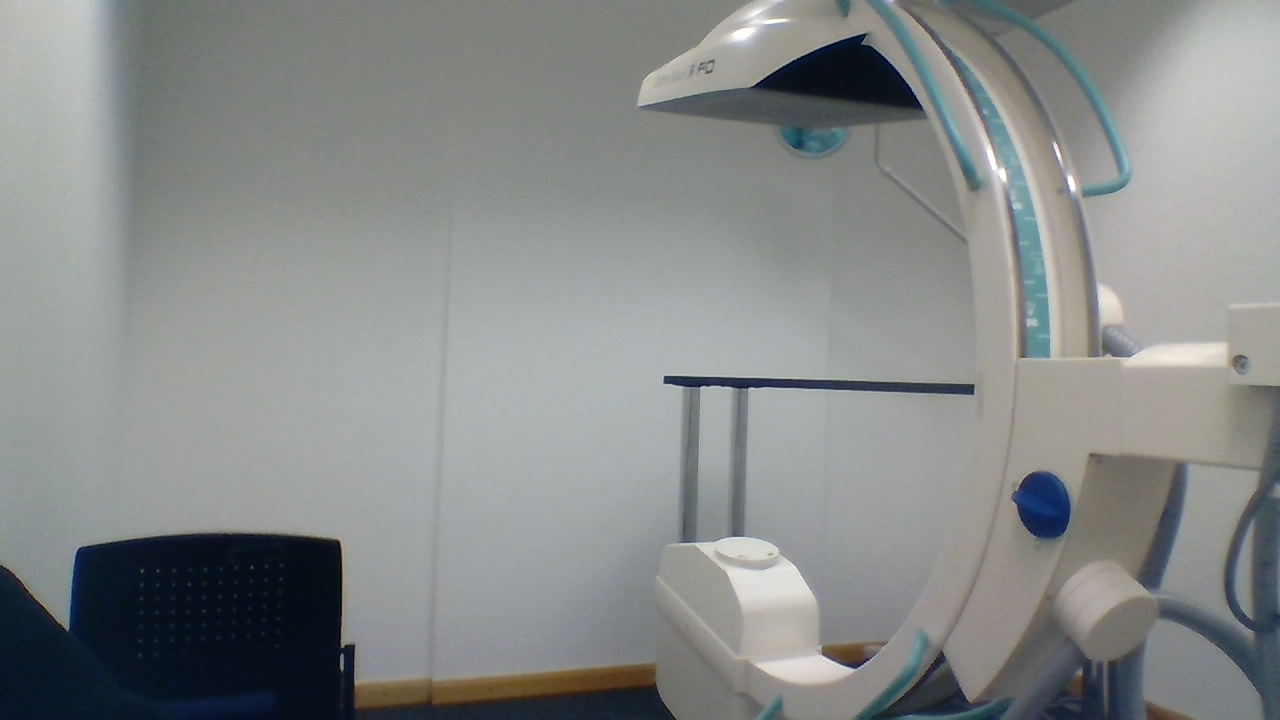carmDOWN: (652, 533, 822, 661)
carmLOCK: (1008, 469, 1071, 540)
carmUP: (634, 0, 999, 127)
